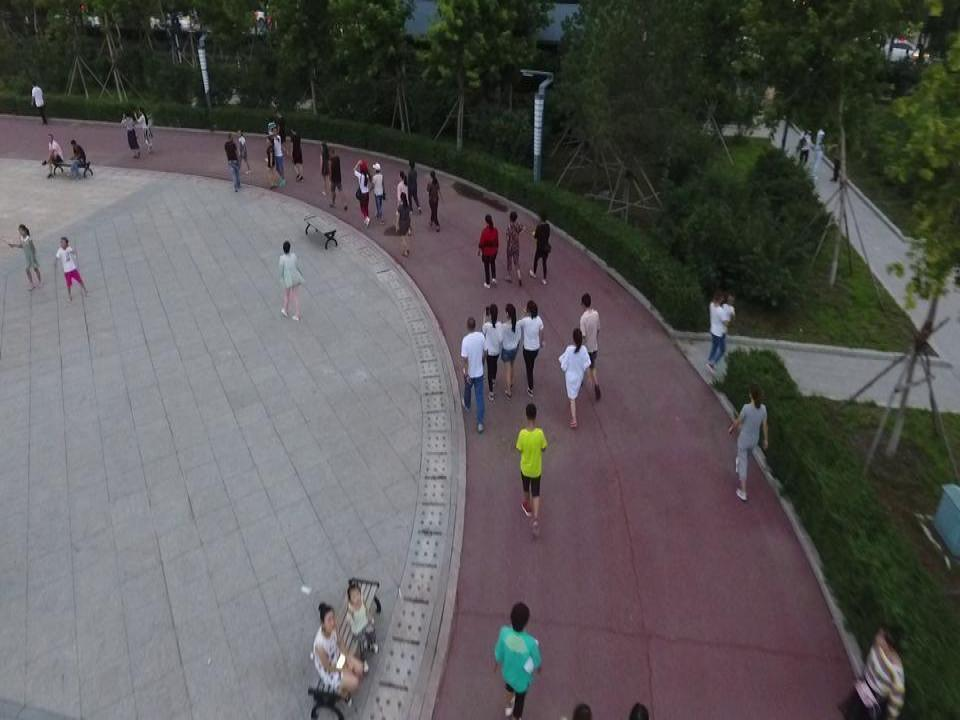car: (881, 34, 928, 62)
